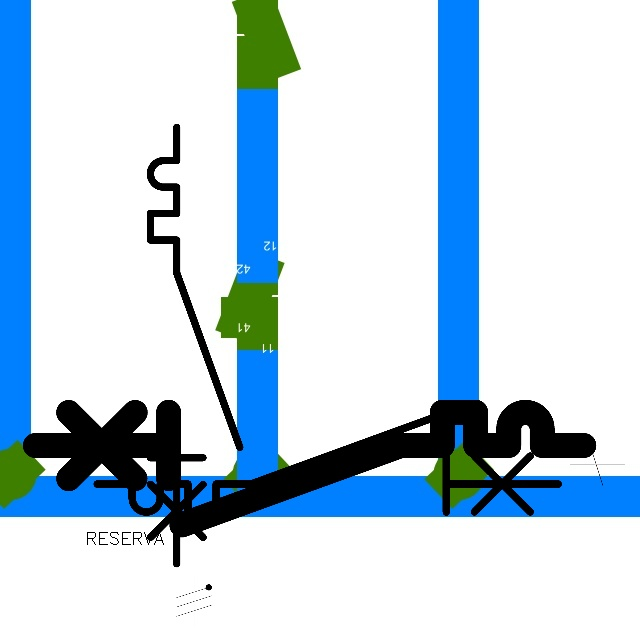interruptor_termomagnetico: (21, 398, 598, 539), (85, 405, 570, 524), (139, 116, 251, 575)
